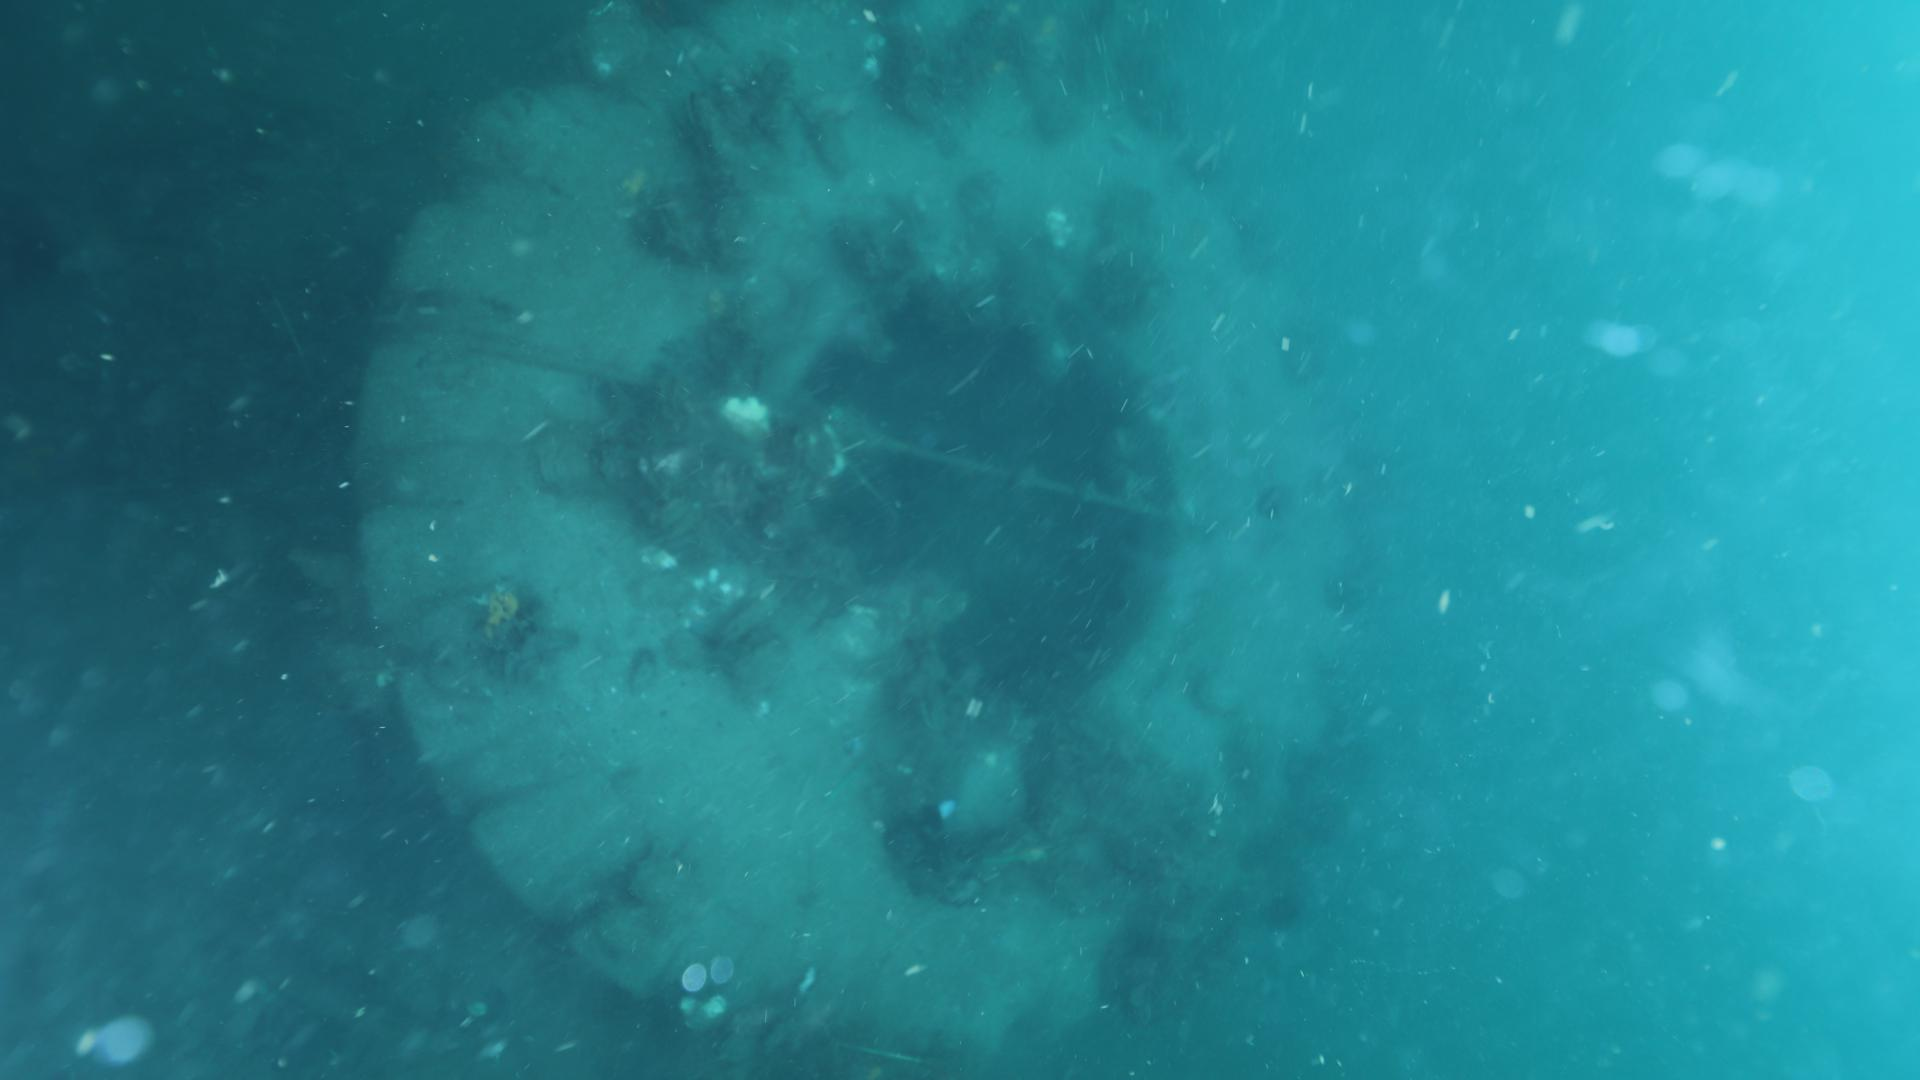tire: (353, 0, 1350, 1054)
